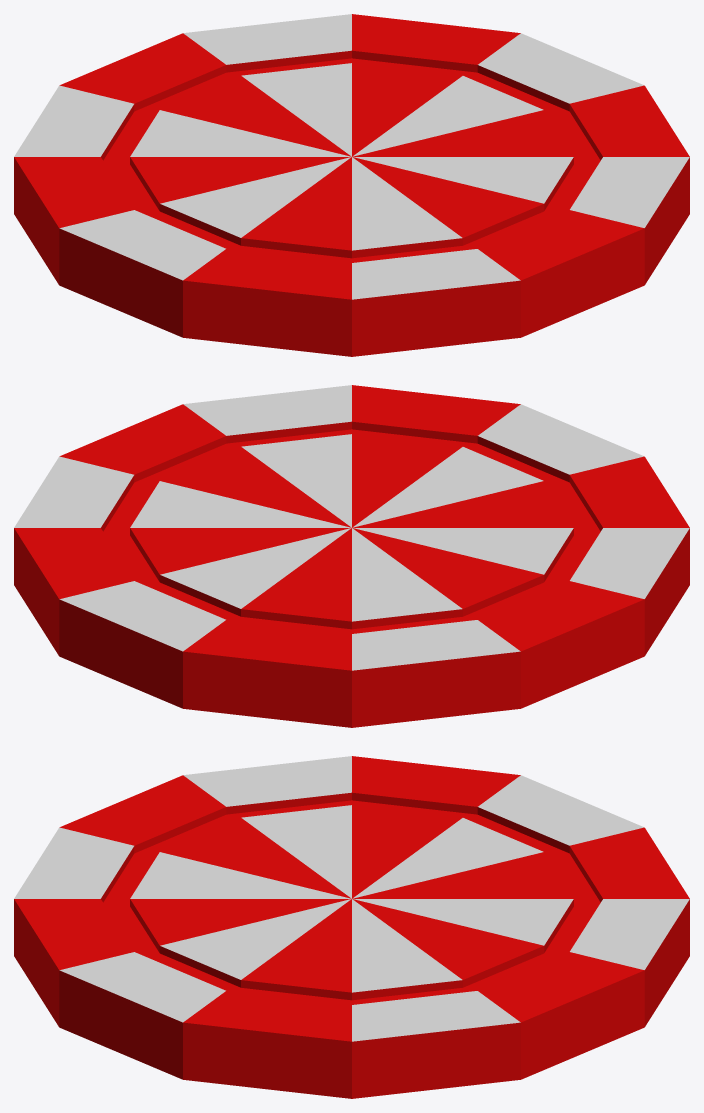
Rendered from chip.fbx.
3 renders of one model, top to bottom at view 1: azimuth 30°, elevation 25°; view 2: azimuth 150°, elevation 25°; view 3: azimuth 270°, elevation 25°, orthographic.
Parts seen in each view (by area): view 1: PokerChip_red:pCylinder1; view 2: PokerChip_red:pCylinder1; view 3: PokerChip_red:pCylinder1.
Boxes of the visible parts, x1,y1,x2,y2 form: PokerChip_red:pCylinder1: (14, 14, 689, 356); PokerChip_red:pCylinder1: (14, 385, 689, 727); PokerChip_red:pCylinder1: (14, 756, 689, 1098).
Size of the model in its own units: 2 by 0.1869 by 2.
